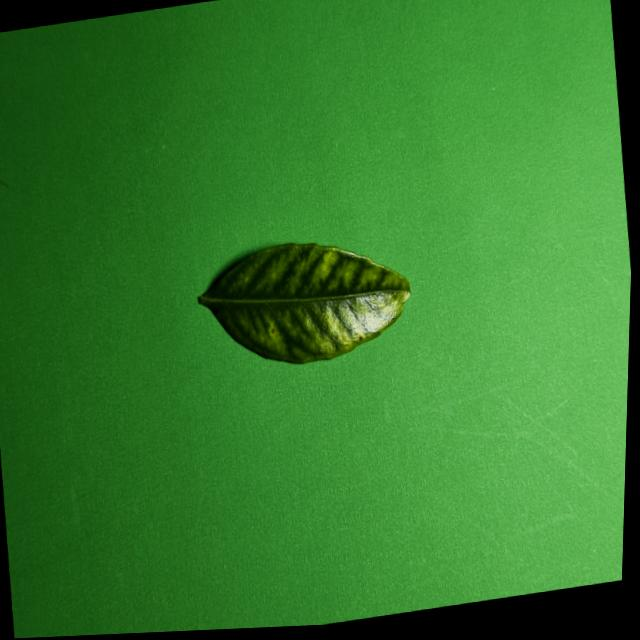greening: (198, 243, 408, 362)
